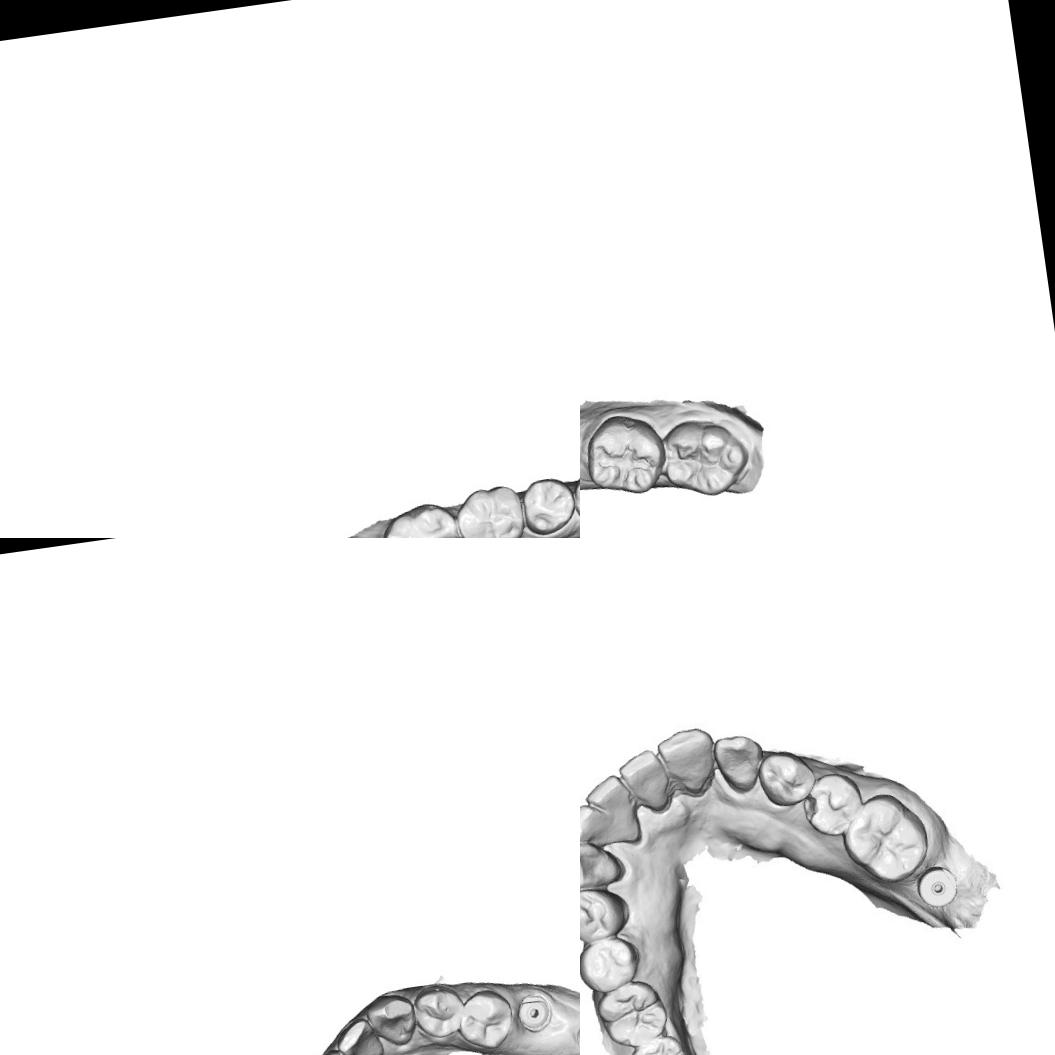canine: (712, 728, 771, 796), (359, 988, 421, 1052), (580, 834, 624, 892)
implant: (914, 861, 960, 912), (514, 988, 557, 1036)
incisor: (653, 724, 721, 798), (612, 744, 676, 818), (581, 774, 638, 836), (331, 1013, 388, 1055), (580, 799, 619, 853), (310, 1041, 364, 1055)
molar: (837, 788, 934, 888), (657, 412, 754, 502), (580, 408, 671, 500), (591, 977, 672, 1054), (451, 481, 530, 538), (376, 497, 465, 538), (624, 1032, 695, 1055)
premolar: (794, 767, 868, 841), (450, 986, 519, 1055), (750, 746, 818, 812), (514, 470, 579, 538), (580, 933, 645, 998), (407, 980, 470, 1044), (580, 883, 632, 948)
